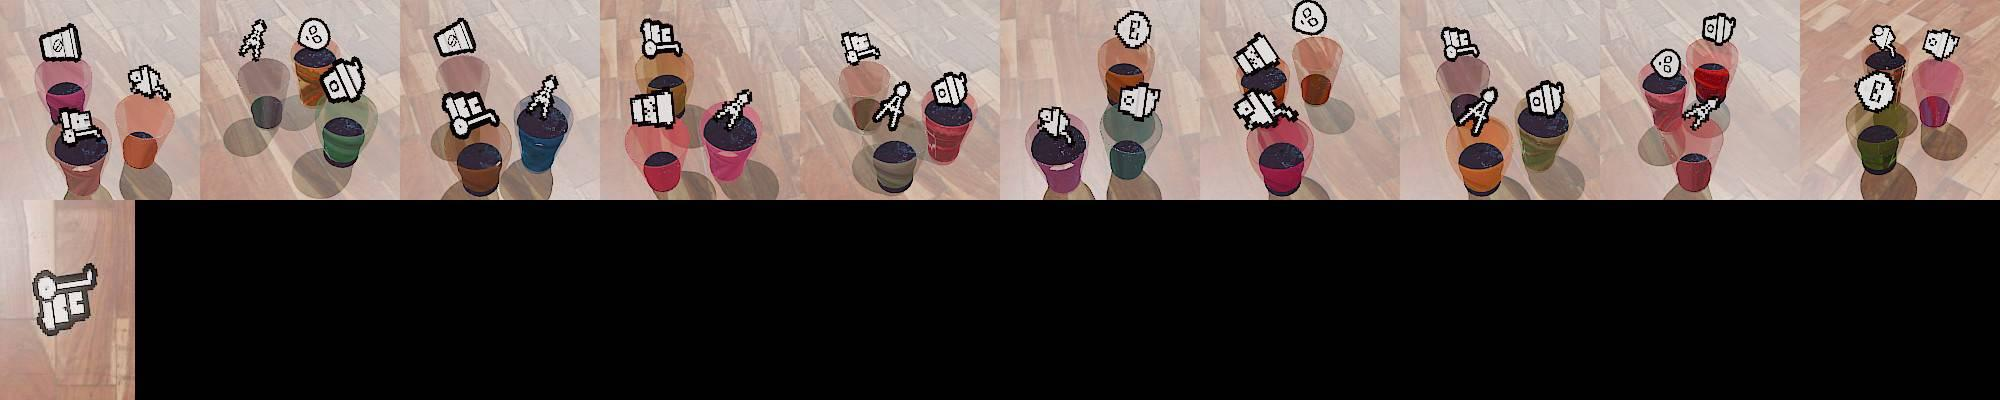icon: (32, 261, 102, 335), (440, 88, 500, 138), (1231, 88, 1288, 131), (319, 55, 369, 103), (1459, 85, 1499, 138), (629, 87, 677, 129), (872, 79, 911, 131), (1235, 32, 1281, 74), (434, 17, 477, 60), (639, 18, 684, 60), (1853, 71, 1895, 113), (1117, 82, 1161, 122), (38, 23, 83, 62), (128, 64, 173, 102), (713, 87, 753, 130), (526, 73, 561, 118), (1526, 78, 1566, 117), (57, 107, 99, 145), (1681, 94, 1721, 134), (1114, 9, 1152, 50), (931, 70, 971, 107), (841, 31, 881, 66), (1440, 25, 1480, 61), (1291, 0, 1328, 37), (237, 17, 267, 62), (296, 17, 332, 54), (1037, 104, 1074, 139), (1921, 28, 1959, 61), (1702, 11, 1736, 45), (1649, 46, 1682, 80), (1869, 23, 1897, 52)
